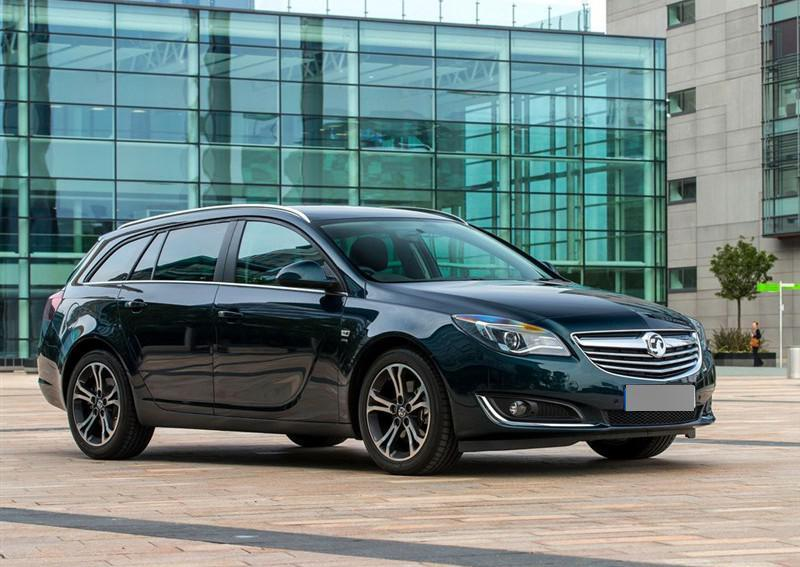Wagon: (35, 202, 718, 478)
